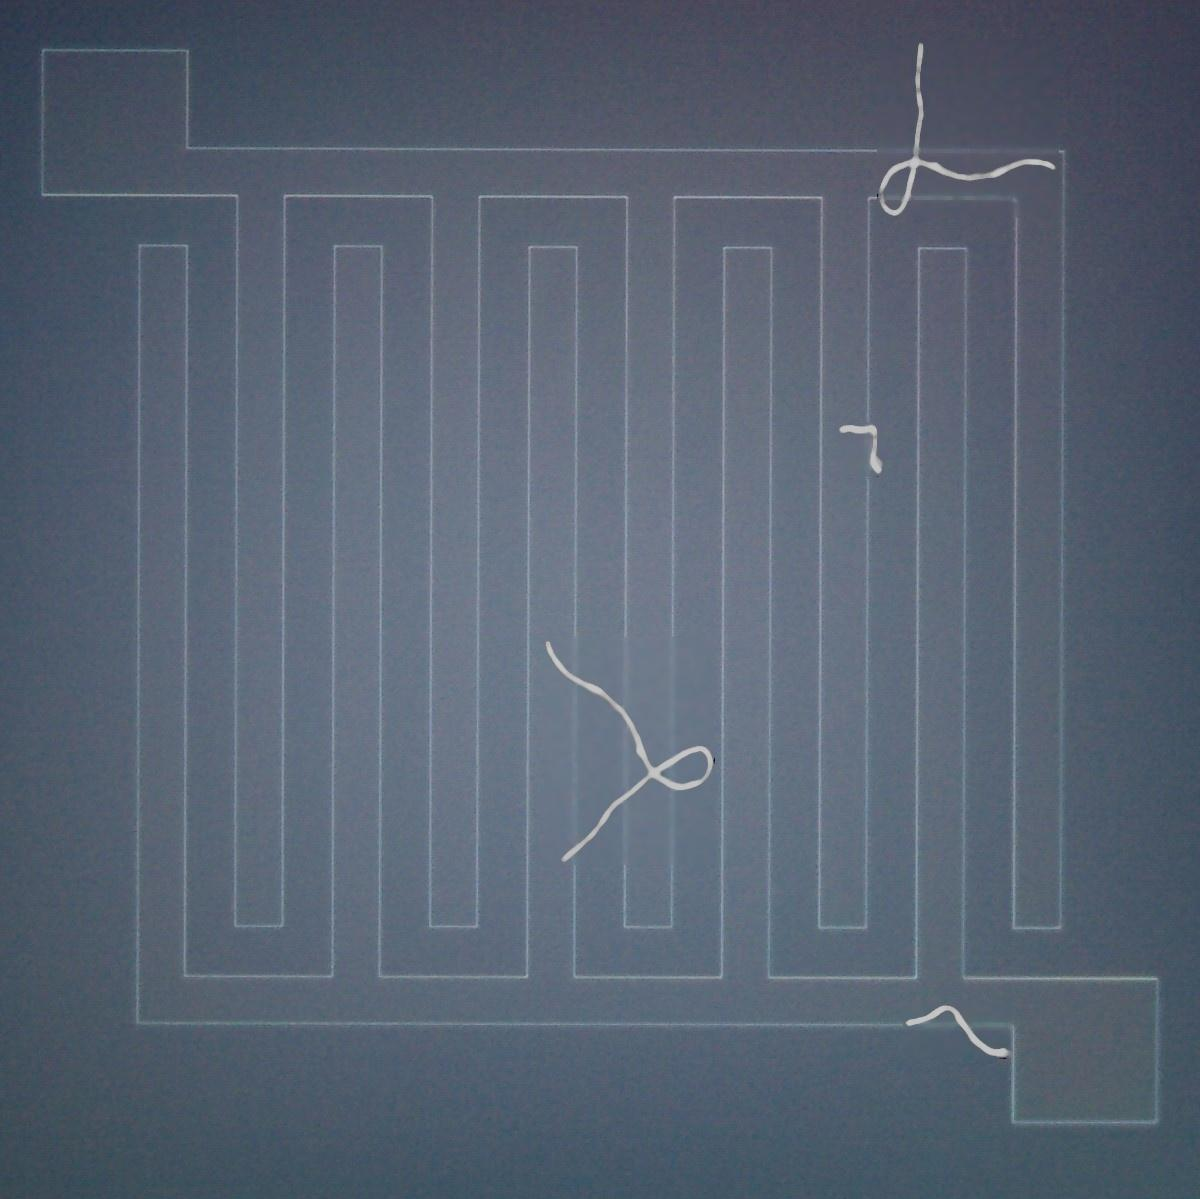foreign: (537, 631, 726, 872), (873, 29, 1065, 228), (898, 998, 1014, 1067), (831, 417, 890, 486)
